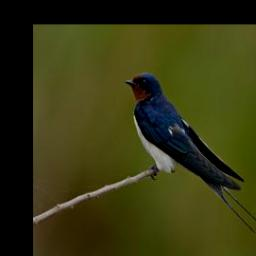Swallow: (125, 73, 256, 234)
